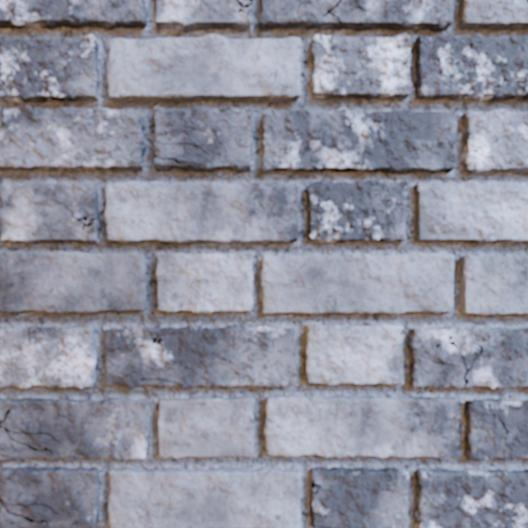brick: (108, 35, 299, 101), (260, 108, 456, 172), (105, 325, 296, 387), (264, 396, 458, 457), (105, 182, 298, 242), (260, 254, 453, 313), (109, 468, 300, 527), (0, 106, 145, 170), (0, 398, 147, 459), (0, 252, 145, 313), (407, 326, 527, 387), (415, 35, 527, 100), (414, 181, 527, 242), (414, 468, 527, 527), (311, 33, 411, 98), (0, 36, 98, 101), (154, 106, 251, 171), (0, 182, 100, 243), (307, 180, 406, 241), (259, 0, 453, 31), (0, 467, 99, 527), (305, 324, 402, 384), (0, 326, 95, 387), (310, 468, 408, 527), (156, 252, 252, 312), (159, 396, 253, 457), (462, 110, 527, 173), (0, 0, 146, 28), (460, 255, 527, 314), (464, 399, 527, 460), (155, 0, 252, 31), (459, 0, 527, 29), (240, 0, 248, 3)
crack: (448, 335, 485, 388), (0, 498, 57, 526), (63, 202, 99, 230), (154, 139, 207, 153), (155, 155, 198, 169), (139, 377, 186, 388), (321, 0, 342, 23), (234, 0, 253, 14), (311, 479, 322, 494), (449, 413, 458, 421), (291, 197, 298, 203), (399, 328, 404, 335), (313, 525, 329, 527)
